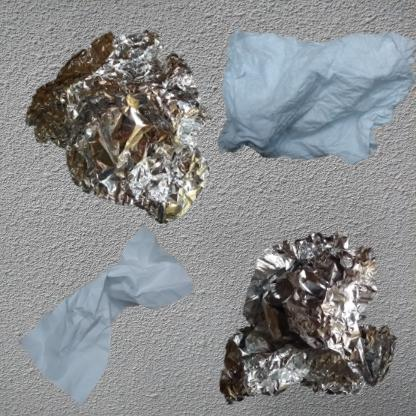aluminio: (10, 10, 239, 235), (213, 213, 416, 416)
papel: (10, 213, 204, 416), (213, 10, 416, 182)
